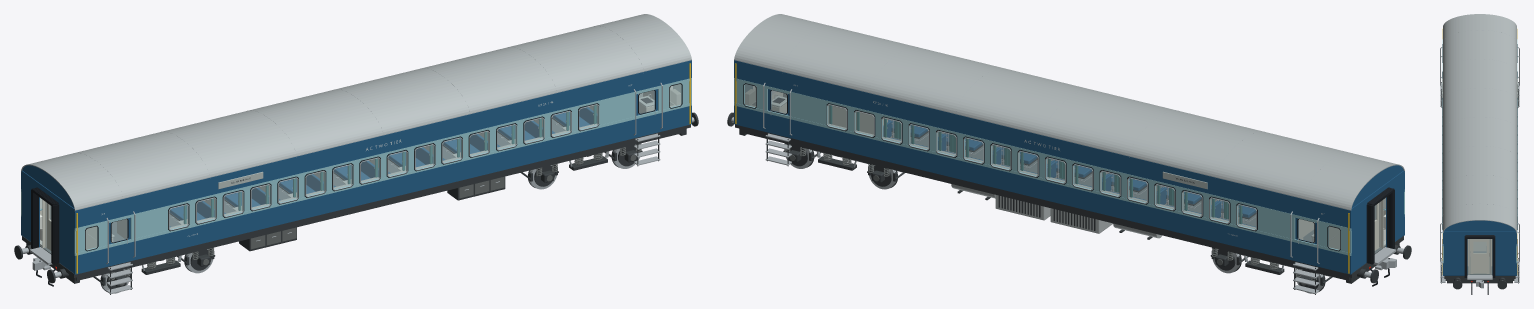
File: ICF_2A.fbx
3 views of the same model, side by side, from view 1: azimuth 30°, elevation 25°; view 2: azimuth 150°, elevation 25°; view 3: azimuth 270°, elevation 25° (orthographic). The views are drawn at different scales.
Visible parts, largest first — view 1: Pressed steel roof shell, Lower blue bodyside, Upper blue letterboard, Longitudinal underframe solebar, Structural coach floor, Cyan horizontal window band, Cyan horizontal window band.001, Coach end wall, Finished lino floor, Window zone pier.018, Window zone pier.002, Coach end wall.001 (+1 smaller); view 2: Pressed steel roof shell, Lower blue bodyside.001, Upper blue letterboard.001, Longitudinal underframe solebar.001, Structural coach floor, Cyan horizontal window band.002, Cyan horizontal window band.003, Finished lino floor, Coach end wall.001, Window zone pier.038, Window zone pier.022, Underslung air conditioning condenser (+4 smaller); view 3: Pressed steel roof shell, Coach end wall.002, Coach end wall.003, Curved end roof cap.001, End top header.001, Vestibule lower door.001, Buffer beam, Cyan horizontal window band.001, Cyan horizontal window band.003, Finished lino floor, Saloon end bulkhead.002, Gangway bellows pleat.026 (+10 smaller).
Boxes of the visible parts, x1,y1,x2,y2 form: Pressed steel roof shell: [21, 14, 691, 211]; Lower blue bodyside: [74, 105, 691, 274]; Upper blue letterboard: [74, 60, 691, 229]; Longitudinal underframe solebar: [75, 128, 686, 280]; Structural coach floor: [22, 124, 690, 277]; Cyan horizontal window band: [74, 103, 691, 255]; Cyan horizontal window band.001: [74, 78, 691, 231]; Coach end wall: [57, 198, 74, 273]; Finished lino floor: [40, 119, 564, 253]; Window zone pier.018: [597, 94, 635, 125]; Window zone pier.002: [130, 208, 168, 239]; Coach end wall.001: [22, 173, 39, 247]; Pressed steel roof shell: [734, 14, 1404, 210]; Lower blue bodyside.001: [734, 105, 1351, 274]; Upper blue letterboard.001: [734, 60, 1351, 230]; Longitudinal underframe solebar.001: [739, 128, 1350, 280]; Structural coach floor: [735, 124, 1403, 277]; Cyan horizontal window band.002: [734, 103, 1351, 255]; Cyan horizontal window band.003: [734, 78, 1351, 231]; Finished lino floor: [890, 132, 1385, 253]; Coach end wall.001: [1351, 206, 1366, 273]; Window zone pier.038: [790, 94, 828, 125]; Window zone pier.022: [1257, 208, 1295, 239]; Underslung air conditioning condenser: [1050, 208, 1112, 233]; Pressed steel roof shell: [1443, 14, 1516, 233]; Coach end wall.002: [1444, 232, 1467, 275]; Coach end wall.003: [1492, 232, 1515, 275]; Curved end roof cap.001: [1444, 220, 1515, 231]; End top header.001: [1444, 231, 1515, 236]; Vestibule lower door.001: [1472, 253, 1487, 273]; Buffer beam: [1447, 279, 1512, 283]; Cyan horizontal window band.001: [1442, 39, 1443, 246]; Cyan horizontal window band.003: [1516, 39, 1517, 246]; Finished lino floor: [1467, 239, 1492, 274]; Saloon end bulkhead.002: [1470, 239, 1486, 251]; Gangway bellows pleat.026: [1464, 238, 1467, 277].
Bounding box in the file's own units: 350 × 2246 × 405.
